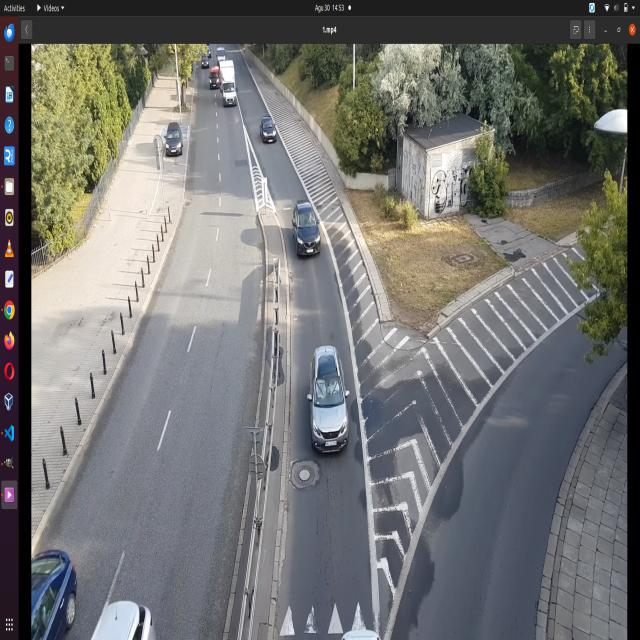person_with_seatbelt: (326, 373, 340, 398), (314, 377, 327, 403)
